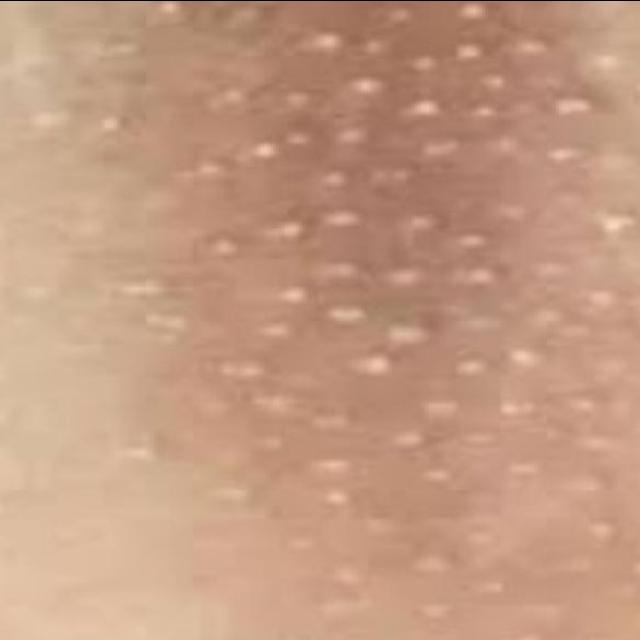whitehead: (183, 0, 591, 563)
